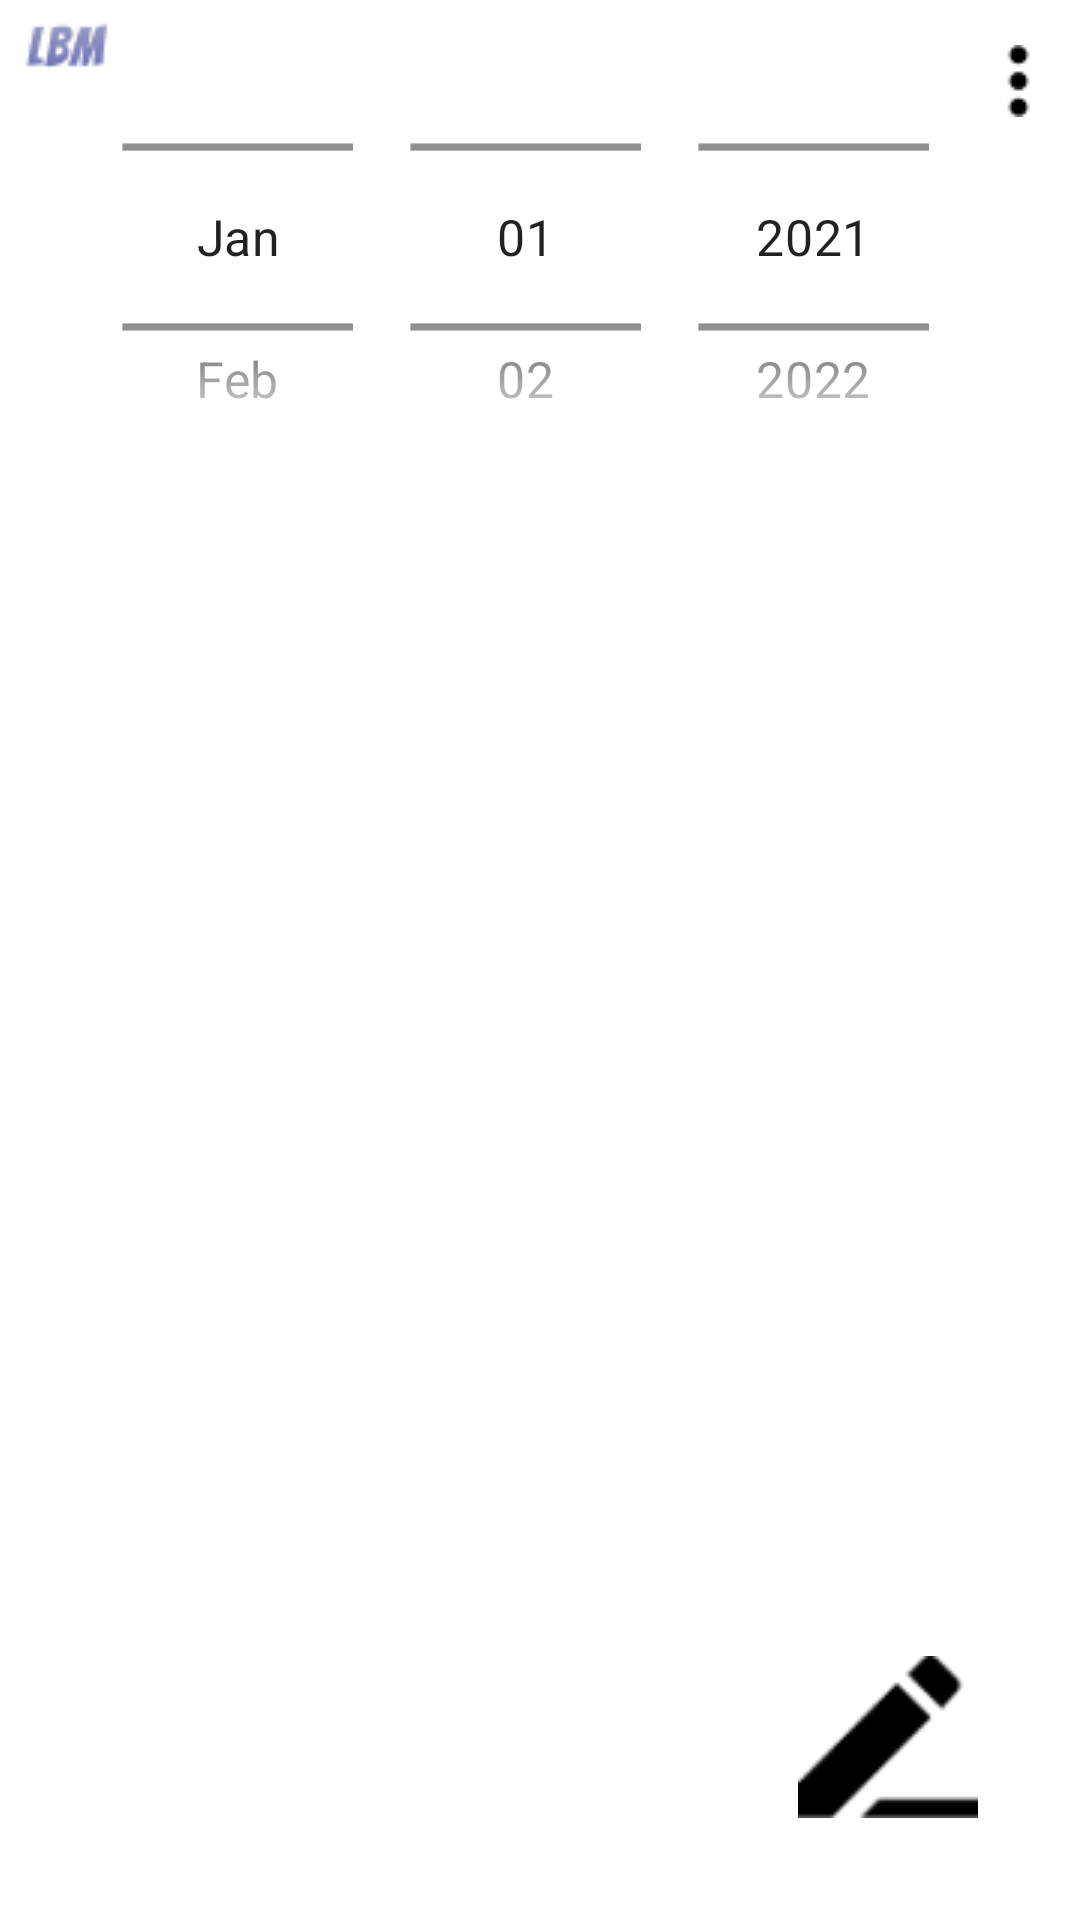

Icon bounding boxes for this 1080px x 1920px phone screenshot, format (x1, y1, x2, y2):
dot: (1007, 45, 1030, 117)
write: (798, 1656, 978, 1818)
